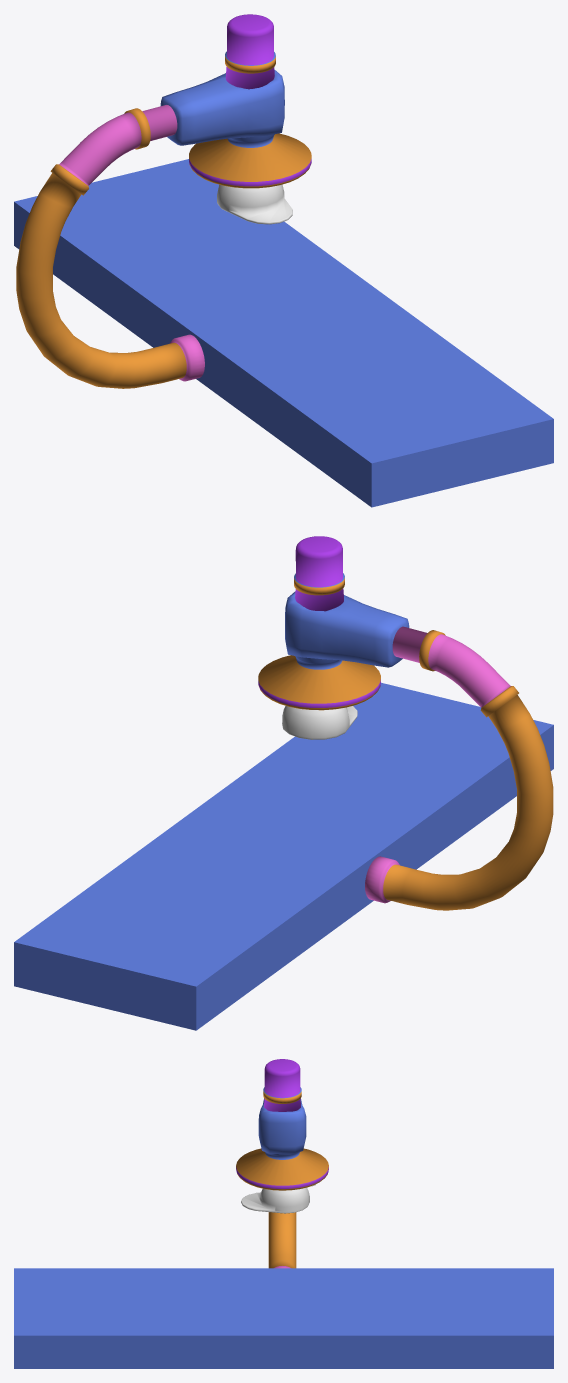
File: cap_nachnies.fbx
The picture shows the model from 3 angles, top to bottom: view 1: azimuth 30°, elevation 25°; view 2: azimuth 150°, elevation 25°; view 3: azimuth 270°, elevation 25°; orthographic projection. The views are drawn at different scales.
Parts seen in each view (by area): view 1: Cube.001, Cylinder.003, Cylinder.002, Cube.003, Deli_Buyuk; view 2: Cube.001, Cylinder.003, Cylinder.002, Cube.003, Deli_Buyuk; view 3: Cube.001, Cylinder.002, Cube.003, Cylinder.003, Deli_Buyuk.
Boxes of the visible parts, x1,y1,x2,y2 form: Cube.001: [14, 159, 553, 507]; Cylinder.003: [16, 105, 204, 388]; Cylinder.002: [189, 14, 311, 188]; Cube.003: [160, 69, 284, 145]; Deli_Buyuk: [217, 184, 292, 224]; Cube.001: [14, 682, 553, 1030]; Cylinder.003: [365, 626, 553, 910]; Cylinder.002: [258, 536, 380, 710]; Cube.003: [285, 591, 409, 667]; Deli_Buyuk: [282, 706, 357, 739]; Cube.001: [14, 1268, 553, 1368]; Cylinder.002: [236, 1059, 328, 1190]; Cube.003: [258, 1098, 306, 1154]; Cylinder.003: [268, 1212, 296, 1268]; Deli_Buyuk: [241, 1184, 315, 1213].
Bounding box in the file's own units: 1235 × 1127 × 2142.
